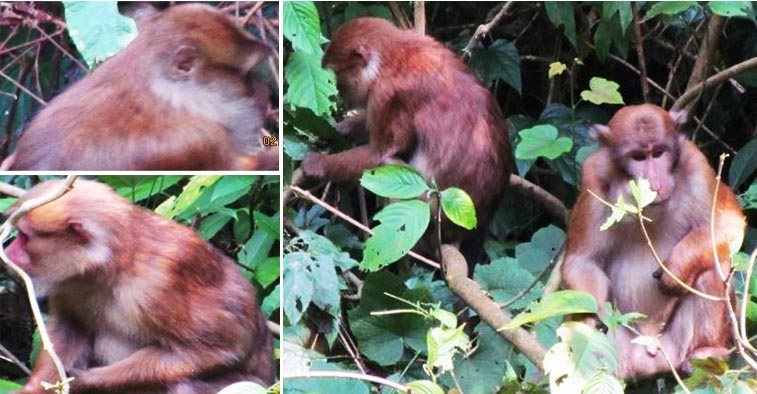monkey: (1, 176, 280, 394), (547, 95, 742, 387), (2, 3, 278, 171), (293, 17, 516, 224)
